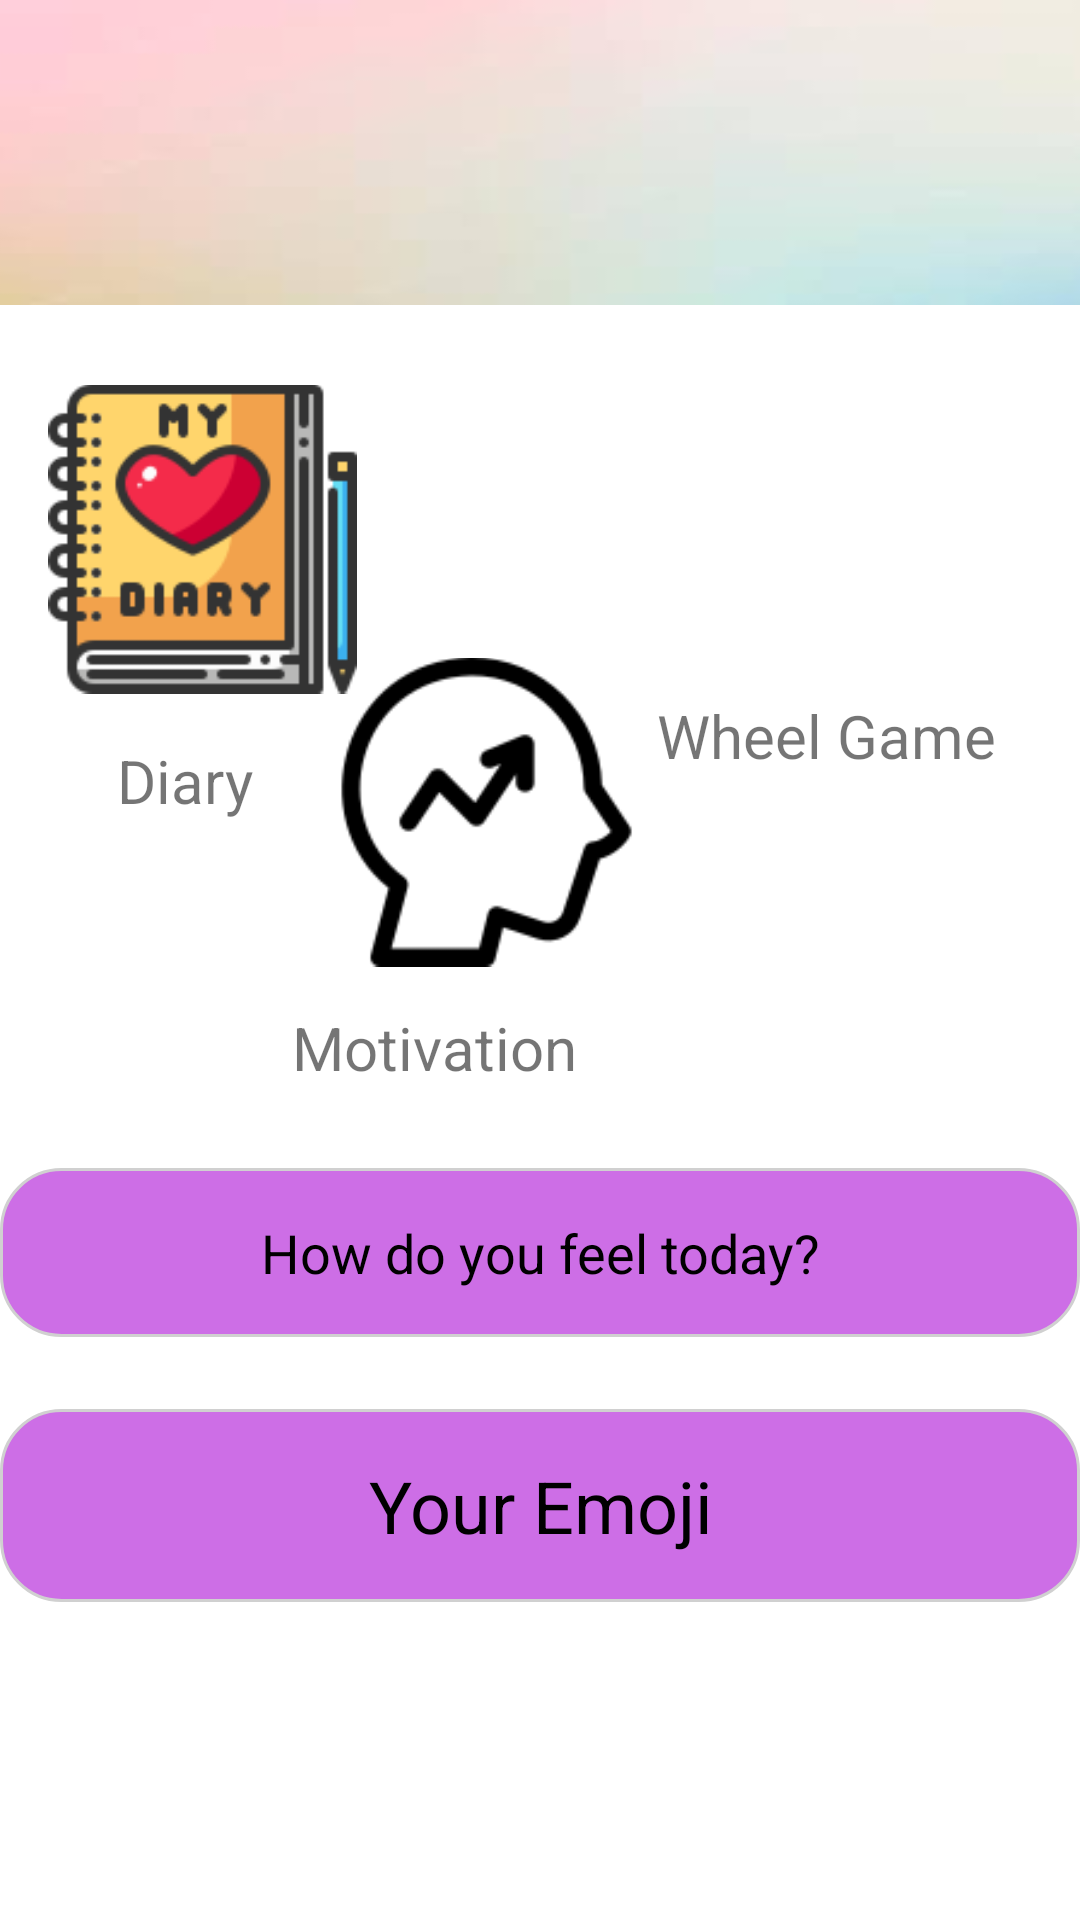

Where to tap for icons on this 1080w x 1920h app screen, as point (x, y):
strongmental: point (486, 812)
